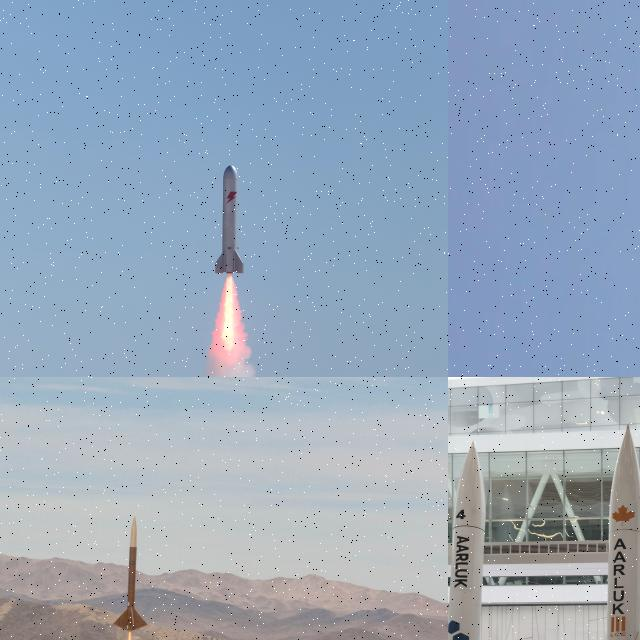Rocket: (448, 440, 486, 640), (607, 423, 640, 640), (204, 167, 256, 283), (114, 515, 148, 631)
